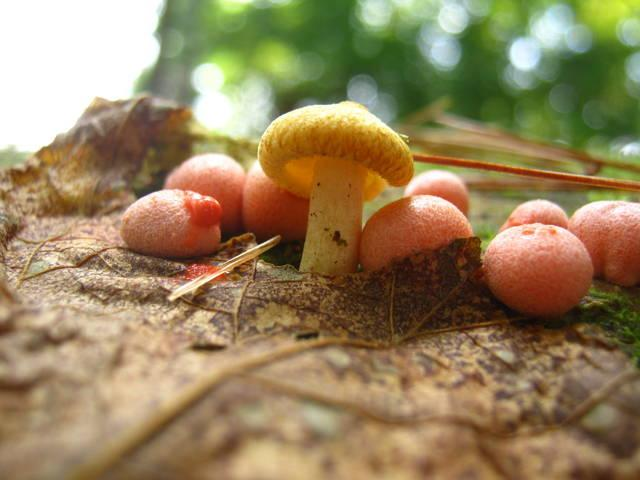Non-edible Mushroom: (256, 99, 414, 275), (481, 221, 593, 317), (358, 193, 473, 273), (118, 187, 222, 257), (163, 151, 245, 235), (567, 198, 638, 286), (498, 197, 568, 232)
